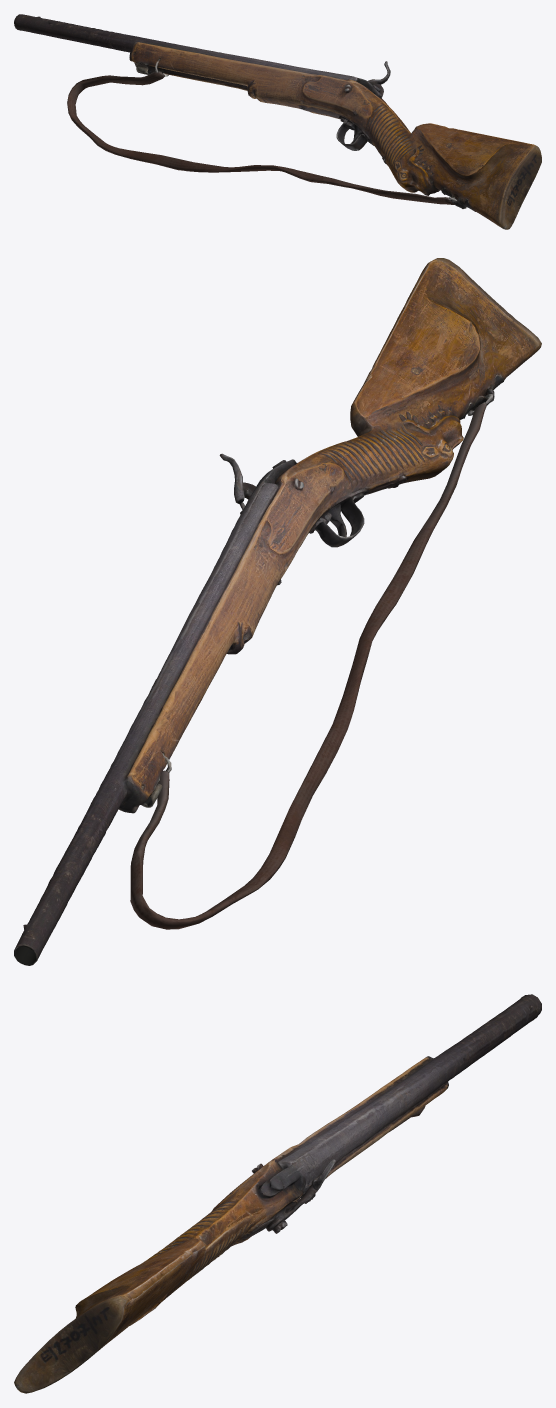
Rendered from zz_shotgun.glb.
3 views of the same model, one above another, from view 1: azimuth 30°, elevation 25°; view 2: azimuth 150°, elevation 25°; view 3: azimuth 330°, elevation 25° (orthographic). The views are drawn at different scales.
Parts seen in each view (by area): view 1: weapon; view 2: weapon; view 3: weapon.
Boxes of the visible parts, x1=… form: weapon: x1=14, y1=14, x2=541, y2=229; weapon: x1=14, y1=258, x2=541, y2=965; weapon: x1=14, y1=994, x2=541, y2=1393.
Size of the model in its own units: 0.2468 by 0.2362 by 1.05.
Materials: 1 (1 with a texture image).
